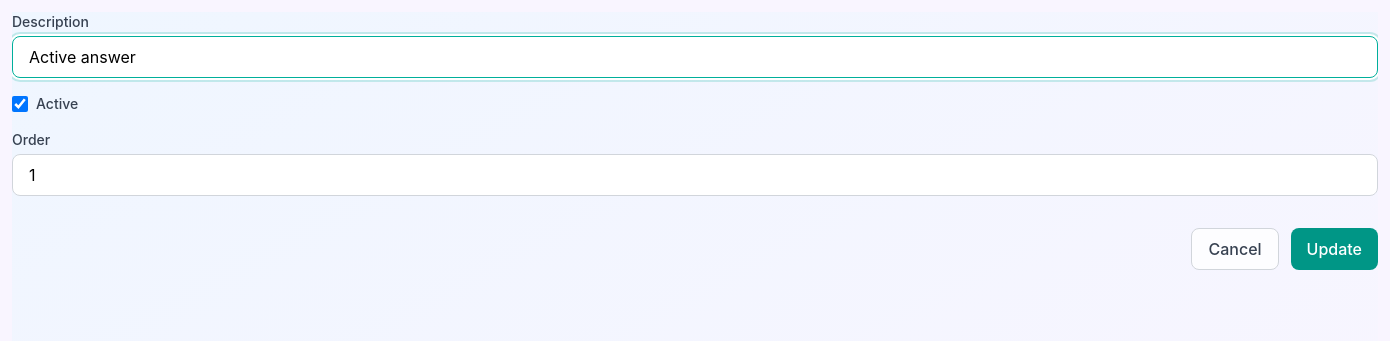
Scenario: AnswerForm › Accessibility › should show success message when answer is deactivated
Click the checkbox labelled "Active" at (20, 104), box [12,96,28,112]
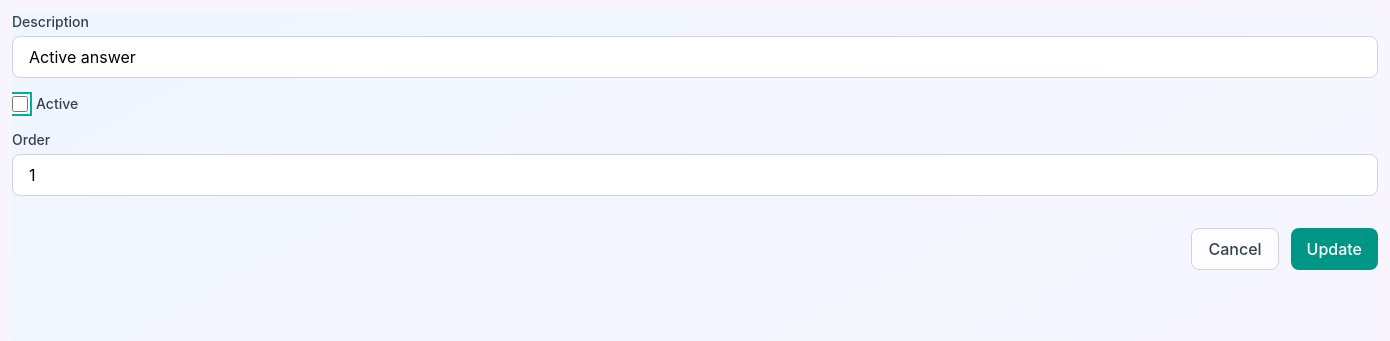
Click the button "Update" at (1334, 249), box [1291,228,1378,270]
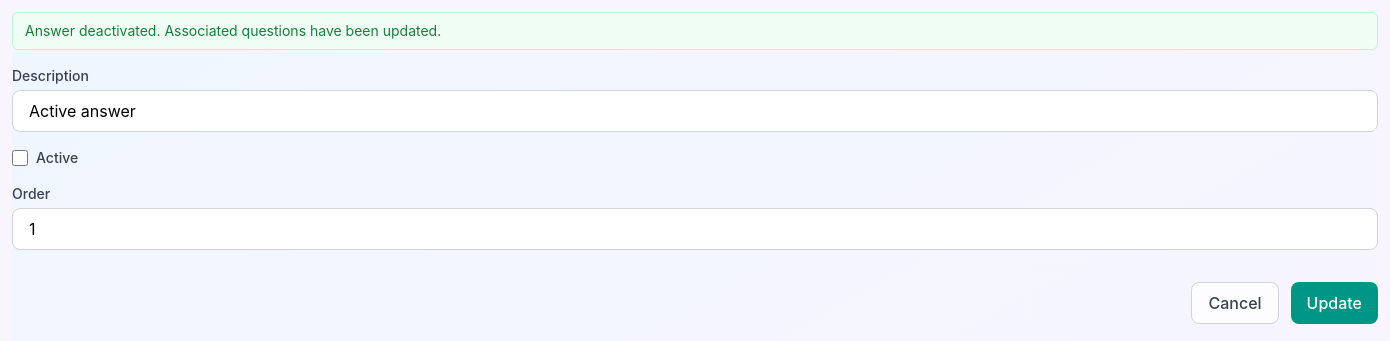
Expected: the message reads "Answer deactivated. Associated questions have been updated.", [25,22,441,39]
